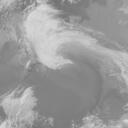cyclone: (19, 22, 88, 72)
